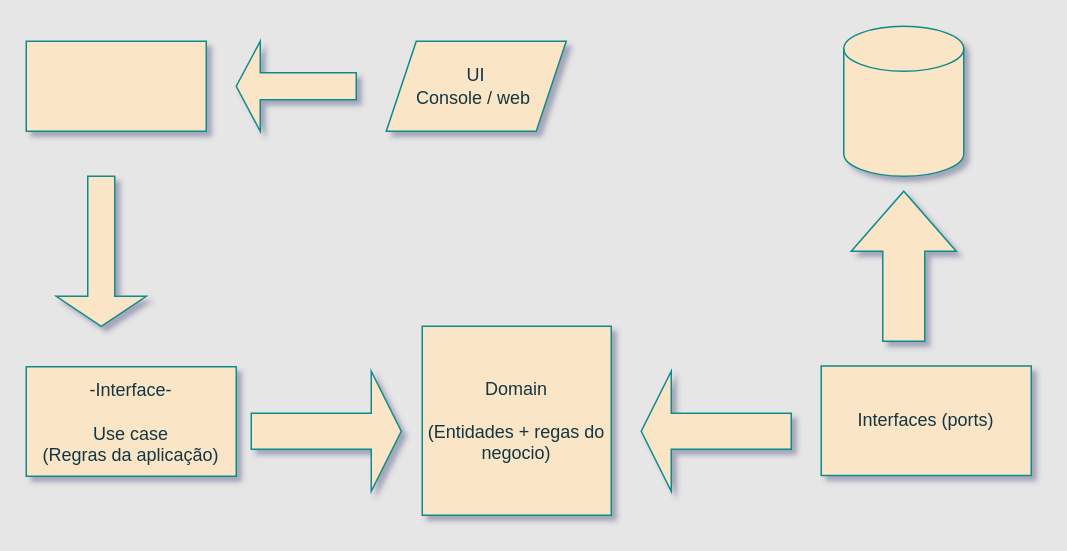
Some shapes in this 1067 by 551 pixel diagram are drawn without their labels. Each missing label, with the box of its shape:
Banco de dados: (842, 25, 964, 176)
Controllers: (25, 40, 206, 131)
